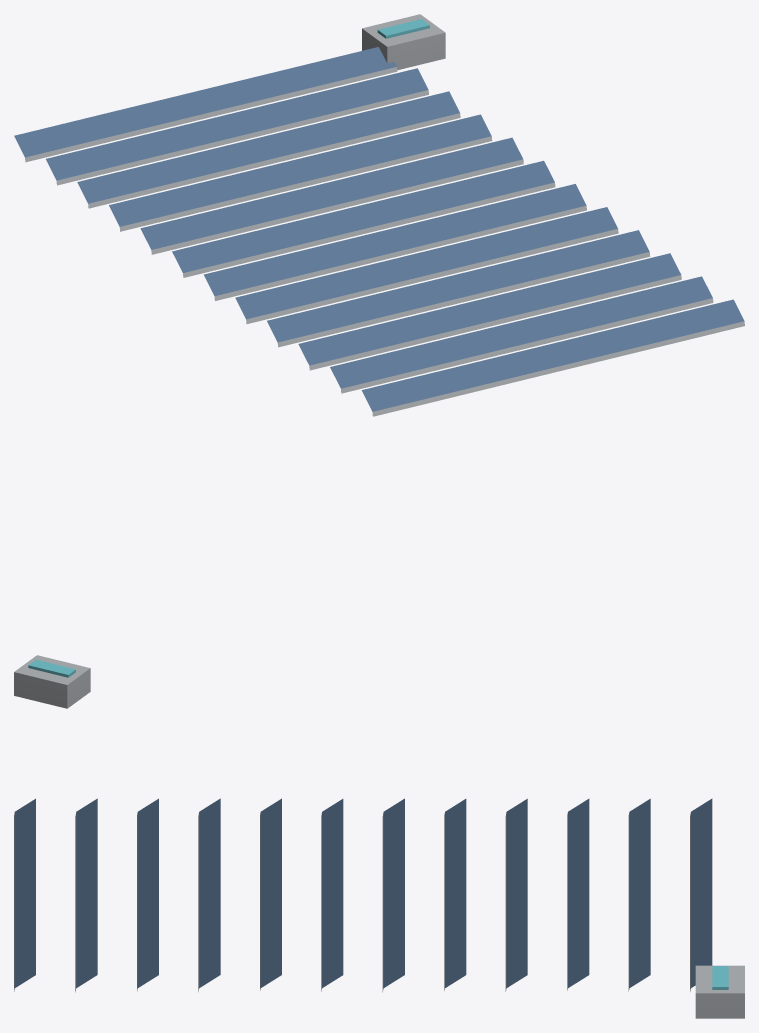
File: plant_solar_l2.glb
The picture shows the model from 3 angles, top to bottom: view 1: azimuth 30°, elevation 25°; view 2: azimuth 150°, elevation 25°; view 3: azimuth 270°, elevation 25°; orthographic projection. The views are drawn at different scales.
Visible parts, largest first — view 1: plant_solar_l2; view 2: plant_solar_l2; view 3: plant_solar_l2.
Part boxes in pixels (<box>): plant_solar_l2: <box>14,14,744,416</box>; plant_solar_l2: <box>14,655,90,708</box>; plant_solar_l2: <box>14,798,744,1018</box>.
Bounding box in the file's own units: 58 × 3.8 × 89.2.
